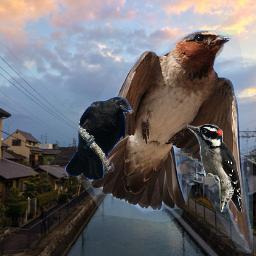Crow: (65, 96, 134, 181)
Swallow: (75, 30, 253, 253)
Woodpecker: (187, 124, 244, 212)
